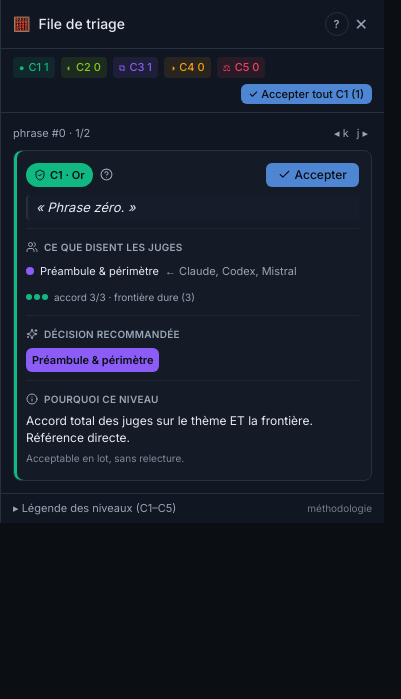
Test: TriageQueueView — navigation & gestes › légende repliable : le toggle affiche la signification des niveaux
Click the button with test id "triage-legend-toggle" at {"x": 97, "y": 508}, box [13,500,372,517]
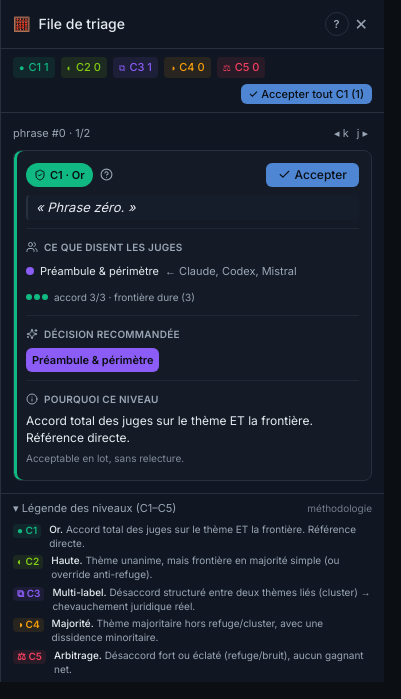
Check: the list with test id "triage-legend" shows "Multi-label", box [52,586,104,598]
Check: the list with test id "triage-legend" shows "Arbitrage", box [54,649,99,661]
